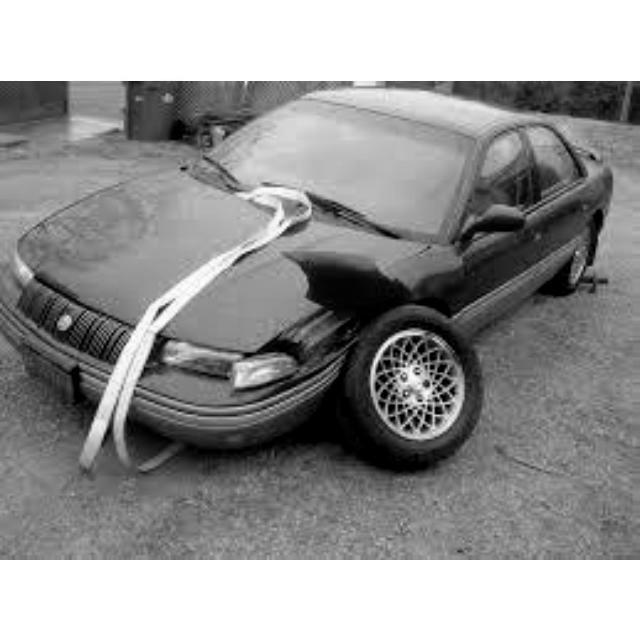fender-dent: (332, 243, 465, 329)
